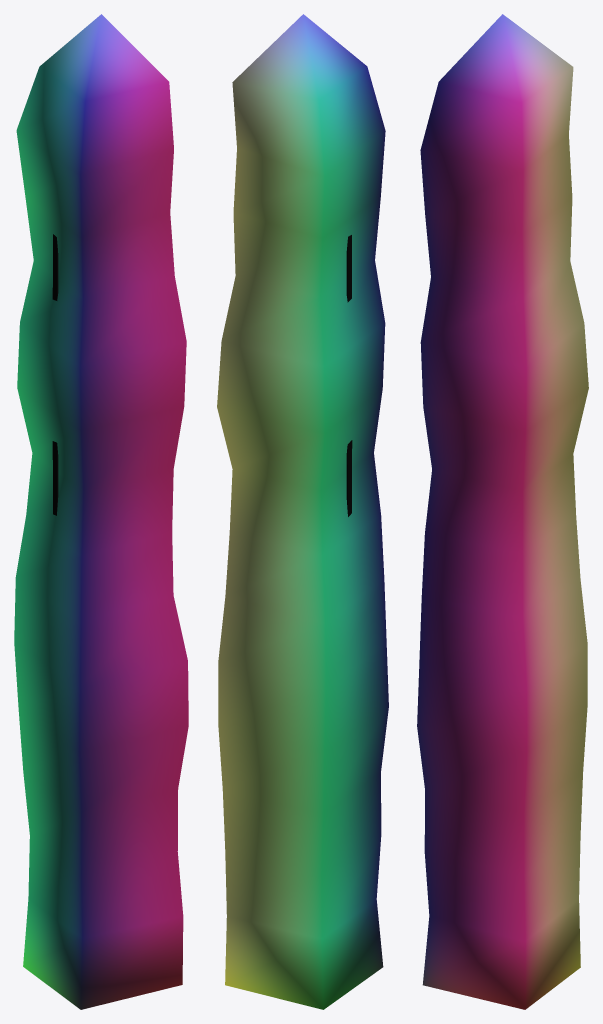
The model's file is SM_Palisade_Plains_Stake_B.fbx.
3 renders of one model, left to right at view 1: azimuth 30°, elevation 25°; view 2: azimuth 150°, elevation 25°; view 3: azimuth 330°, elevation 25°, orthographic.
Visible parts, largest first — view 1: SM_Palisade_Plains_Stake_B; view 2: SM_Palisade_Plains_Stake_B; view 3: SM_Palisade_Plains_Stake_B.
Part boxes in pixels (<box>): SM_Palisade_Plains_Stake_B: <box>14,14,188,1009</box>; SM_Palisade_Plains_Stake_B: <box>217,14,388,1009</box>; SM_Palisade_Plains_Stake_B: <box>417,14,588,1009</box>.
Bounding box in the file's own units: 0.1757 × 1.46 × 0.1763.
